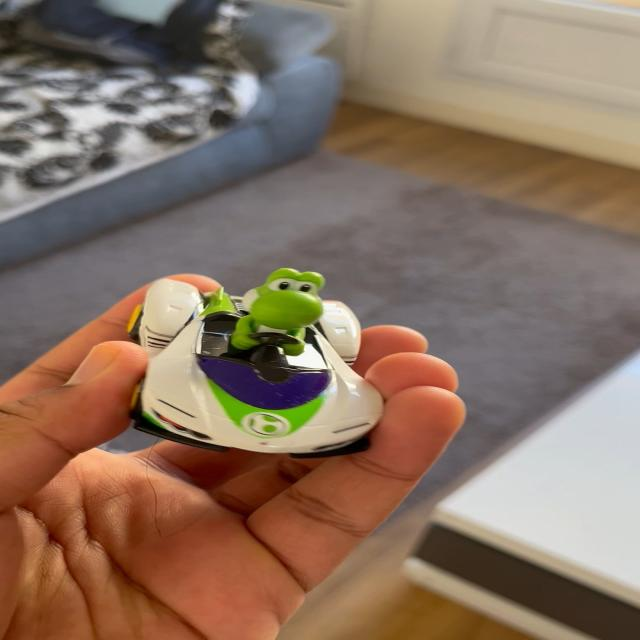yoshi: (114, 259, 406, 465)
